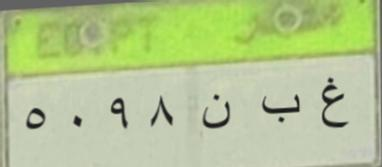0: (64, 104, 98, 133)
5: (20, 103, 53, 134)
8: (142, 90, 180, 130)
9: (101, 93, 138, 134)
baa: (260, 82, 304, 130)
ghayn: (314, 73, 350, 140)
noon: (199, 89, 236, 136)
